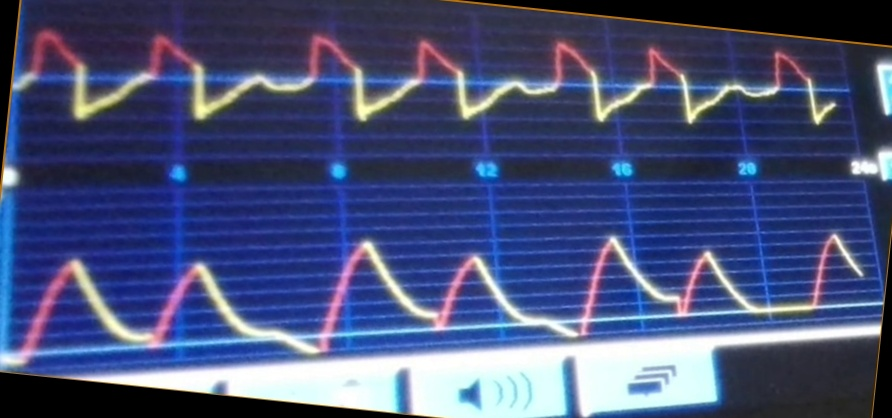Ineffective_effort Flow: (21, 24, 835, 137)
Ineffective_effort Volume: (11, 226, 861, 358)
